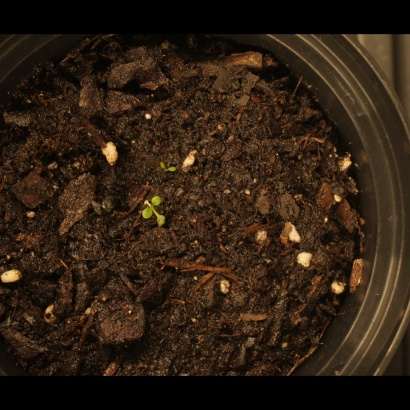leaf: (168, 163, 191, 186), (146, 163, 169, 186), (132, 207, 155, 230), (154, 211, 177, 234), (149, 191, 172, 214)
